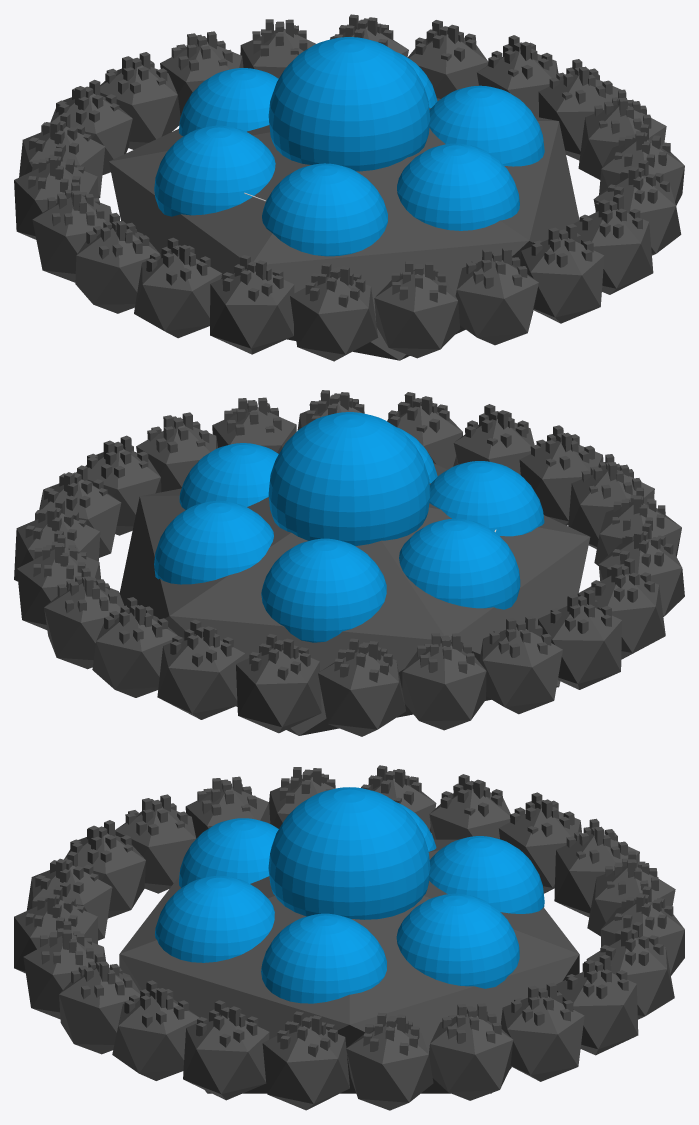
File: Snowy asteroid city.fbx
3 renders of one model, top to bottom at view 1: azimuth 30°, elevation 25°; view 2: azimuth 150°, elevation 25°; view 3: azimuth 270°, elevation 25°, orthographic.
Parts seen in each view (by area): view 1: Icosphere.007, Sphere.008, Icosphere.008, Sphere.007; view 2: Icosphere.007, Sphere.008, Icosphere.008, Sphere.007; view 3: Icosphere.007, Sphere.008, Icosphere.008, Sphere.007.
Boxes of the visible parts, box(x1,y1,x2,y2) form: Icosphere.007: box(14, 14, 684, 361); Sphere.008: box(154, 52, 544, 256); Icosphere.008: box(109, 98, 579, 360); Sphere.007: box(268, 37, 430, 171); Icosphere.007: box(14, 390, 684, 736); Sphere.008: box(154, 427, 544, 642); Icosphere.008: box(119, 463, 590, 735); Sphere.007: box(268, 412, 430, 545); Icosphere.007: box(14, 765, 684, 1110); Sphere.008: box(154, 802, 544, 1003); Icosphere.008: box(119, 839, 579, 1093); Sphere.007: box(268, 787, 430, 919).
Size of the model in its own units: 89219 by 39866 by 89558.
